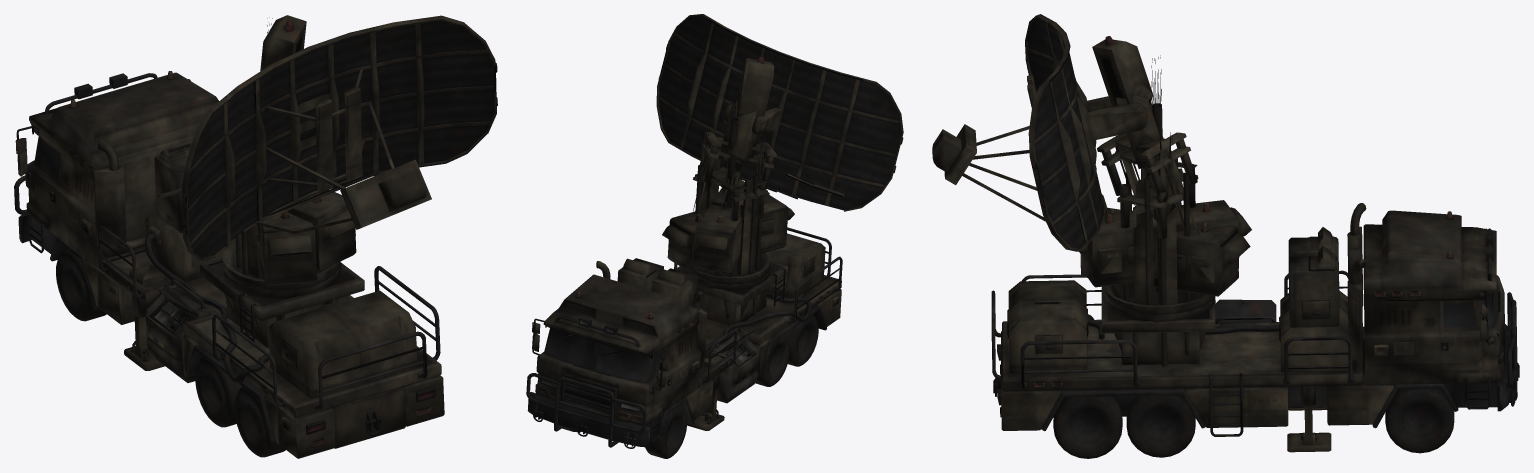
Rendered from msar-wreck.glb.
3 views of the same model, side by side, from view 1: azimuth 30°, elevation 25°; view 2: azimuth 150°, elevation 25°; view 3: azimuth 270°, elevation 25° (orthographic). The views are drawn at different scales.
Parts seen in each view (by area): view 1: hull, antenna; view 2: hull, antenna; view 3: hull, antenna.
Part boxes in pixels (x1=…): hull: x1=14, y1=17, x2=444, y2=458; antenna: x1=182, y1=15, x2=497, y2=261; hull: x1=526, y1=82, x2=844, y2=458; antenna: x1=656, y1=14, x2=903, y2=271; hull: x1=991, y1=55, x2=1519, y2=458; antenna: x1=932, y1=14, x2=1198, y2=251.
Size of the model in its own units: 5.64 by 6.94 by 9.52.
1 material, 1 textured.
